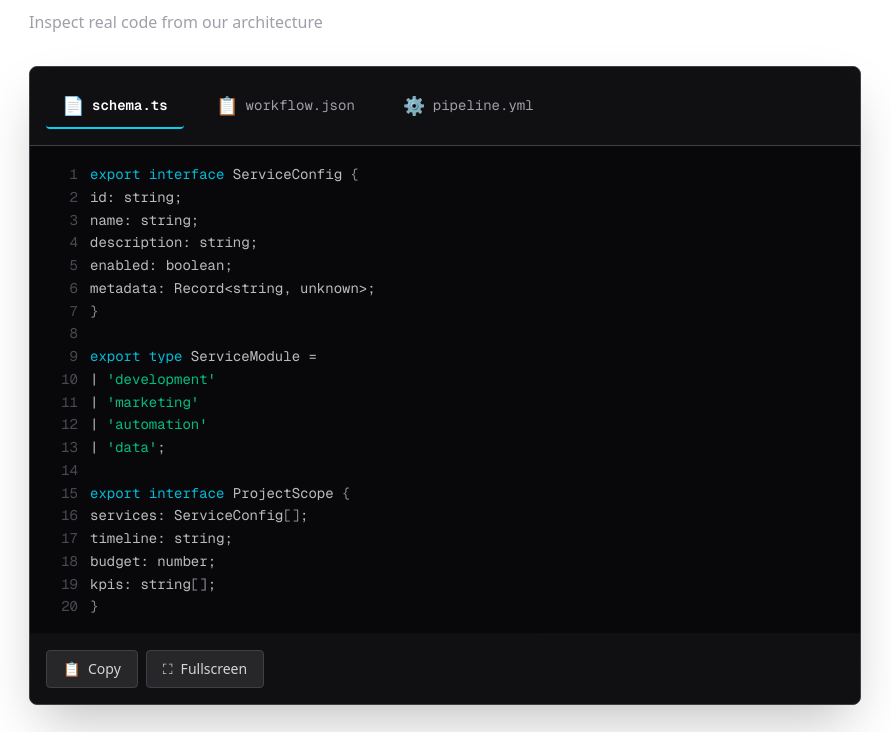
EngineeringTerminal Component › copies code to clipboard when clicking copy button
The width and height of the screenshot is (891, 732).
Click the button "📋 Copy" at (92, 669), box [46,650,138,688]
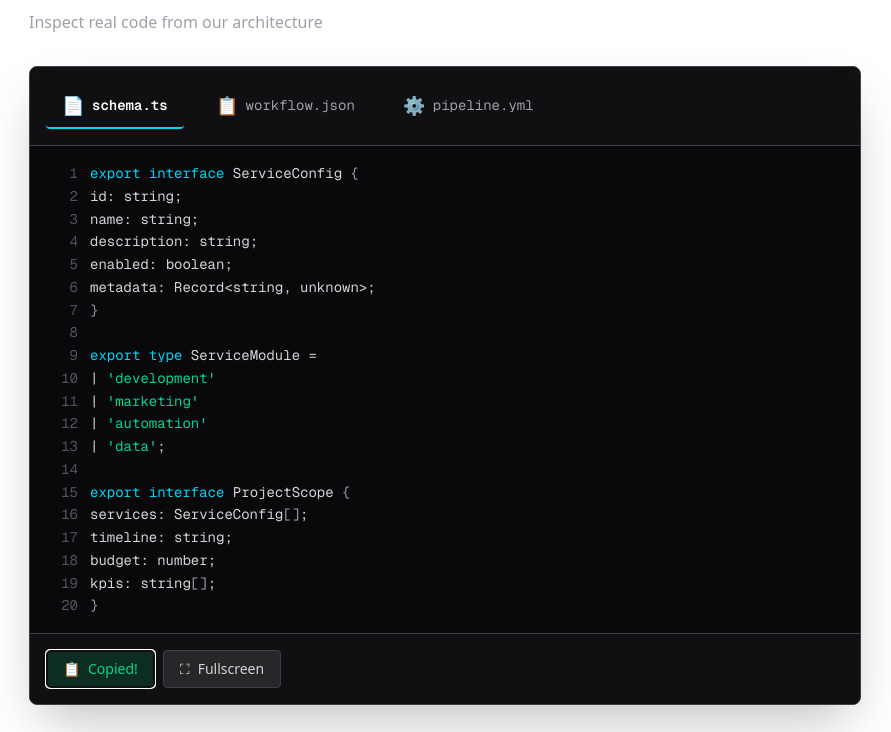
Result: the text "Copied!" is shown at [88,659,138,679]
